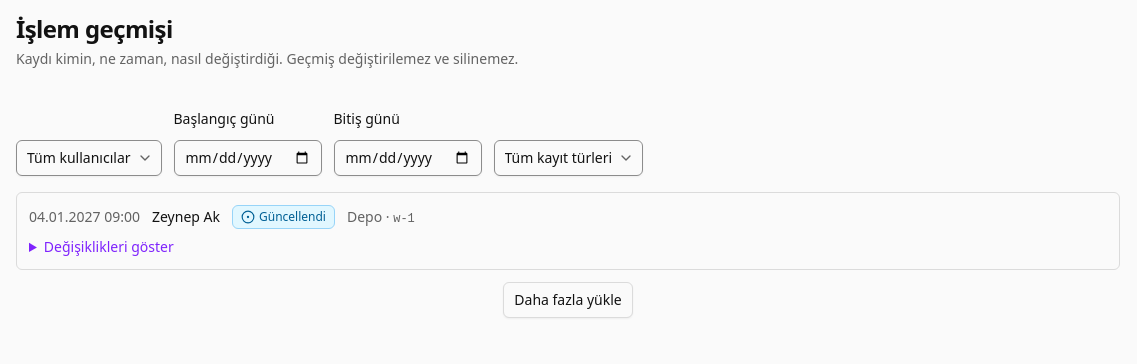
Test case: AuditPage › loads the next slice after the last cursor
Click the button "Daha fazla yükle": (568, 300) [503,282,633,318]
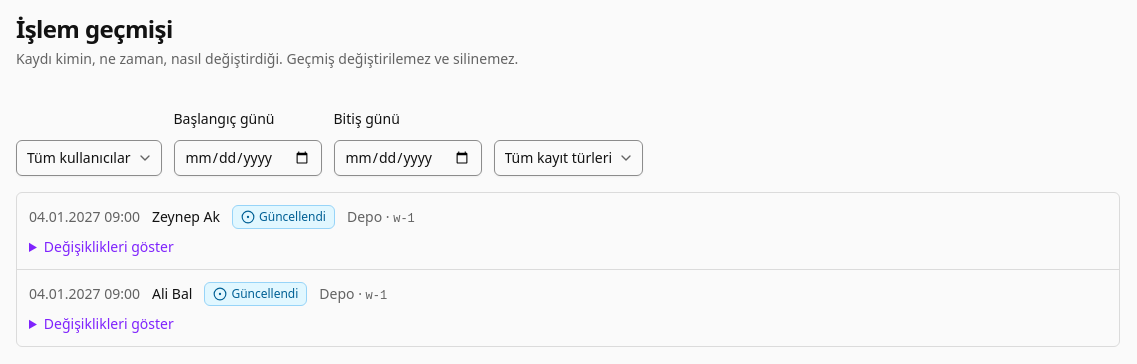
Now the text "Ali Bal" is shown, box [152,284,192,304]
Now the button "Daha fazla yükle" is gone
